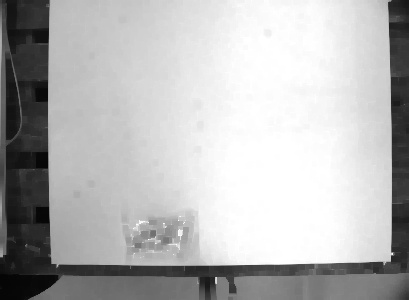t2: (118, 207, 202, 262)
